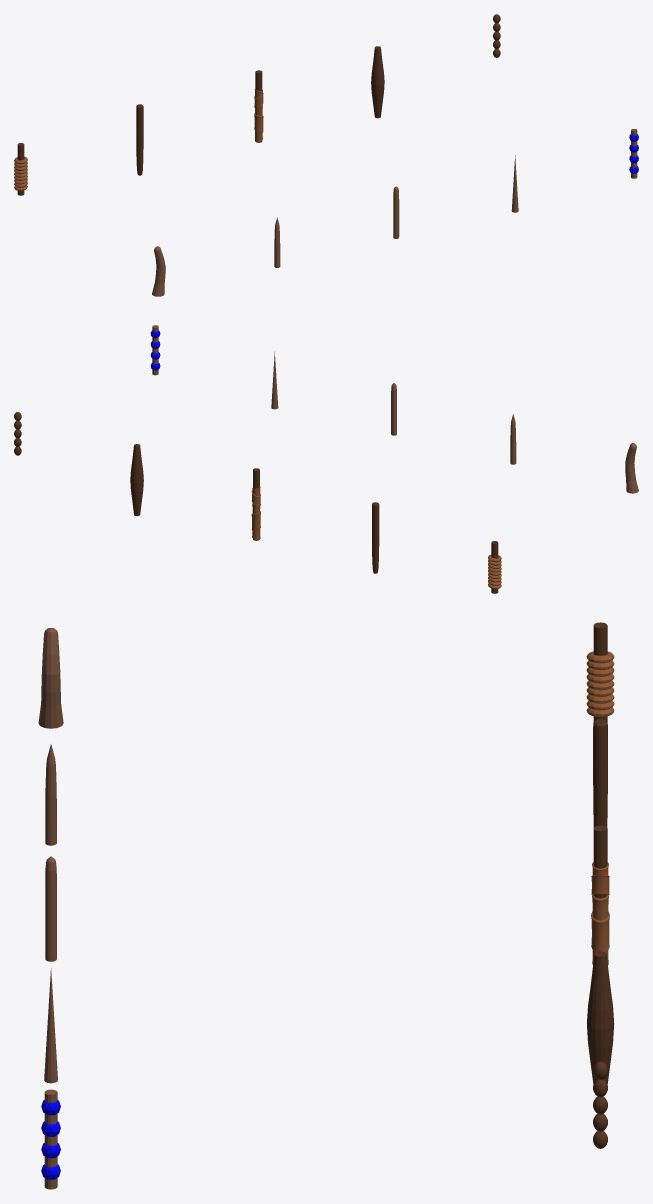
Rendered from ProceduralAssetGeneration 1.glb.
3 renders of one model, top to bottom at view 1: azimuth 30°, elevation 25°; view 2: azimuth 150°, elevation 25°; view 3: azimuth 270°, elevation 25°, orthographic. The views are drawn at different scales.
Parts seen in each view (by area): view 1: Handle_2.001, Handle_4.001, Handle_5.001, Handle_1.001, Shaft_5.001, Shaft_4.001; view 2: Handle_2.001, Handle_4.001, Handle_5.001, Handle_1.001, Shaft_5.001, Shaft_4.001; view 3: Handle_2.001, Handle_4.001, Handle_5.001, Shaft_5.001, Shaft_4.001, Handle_1.001, Shaft_2.001, Handle_3.001, Shaft_1.001, Shaft_3.001.
Boxes of the visible parts, x1=… form: Handle_2.001: x1=371, y1=46, x2=384, y2=118; Handle_4.001: x1=254, y1=70, x2=263, y2=142; Handle_5.001: x1=14, y1=143, x2=27, y2=195; Handle_1.001: x1=136, y1=104, x2=143, y2=175; Shaft_5.001: x1=152, y1=246, x2=165, y2=296; Shaft_4.001: x1=629, y1=129, x2=638, y2=178; Handle_2.001: x1=130, y1=444, x2=143, y2=516; Handle_4.001: x1=251, y1=468, x2=260, y2=540; Handle_5.001: x1=488, y1=541, x2=501, y2=593; Handle_1.001: x1=372, y1=502, x2=379, y2=573; Shaft_5.001: x1=625, y1=443, x2=638, y2=493; Shaft_4.001: x1=150, y1=325, x2=160, y2=375; Handle_2.001: x1=587, y1=951, x2=614, y2=1084; Handle_4.001: x1=591, y1=825, x2=609, y2=964; Handle_5.001: x1=586, y1=622, x2=614, y2=721; Shaft_5.001: x1=38, y1=628, x2=63, y2=728; Shaft_4.001: x1=41, y1=1089, x2=60, y2=1189; Handle_1.001: x1=593, y1=719, x2=607, y2=827; Shaft_2.001: x1=45, y1=856, x2=56, y2=961; Handle_3.001: x1=593, y1=1061, x2=607, y2=1148; Shaft_1.001: x1=45, y1=744, x2=56, y2=845; Shaft_3.001: x1=44, y1=968, x2=57, y2=1083.
Size of the model in its own units: 2.04 by 0.2982 by 1.05.
